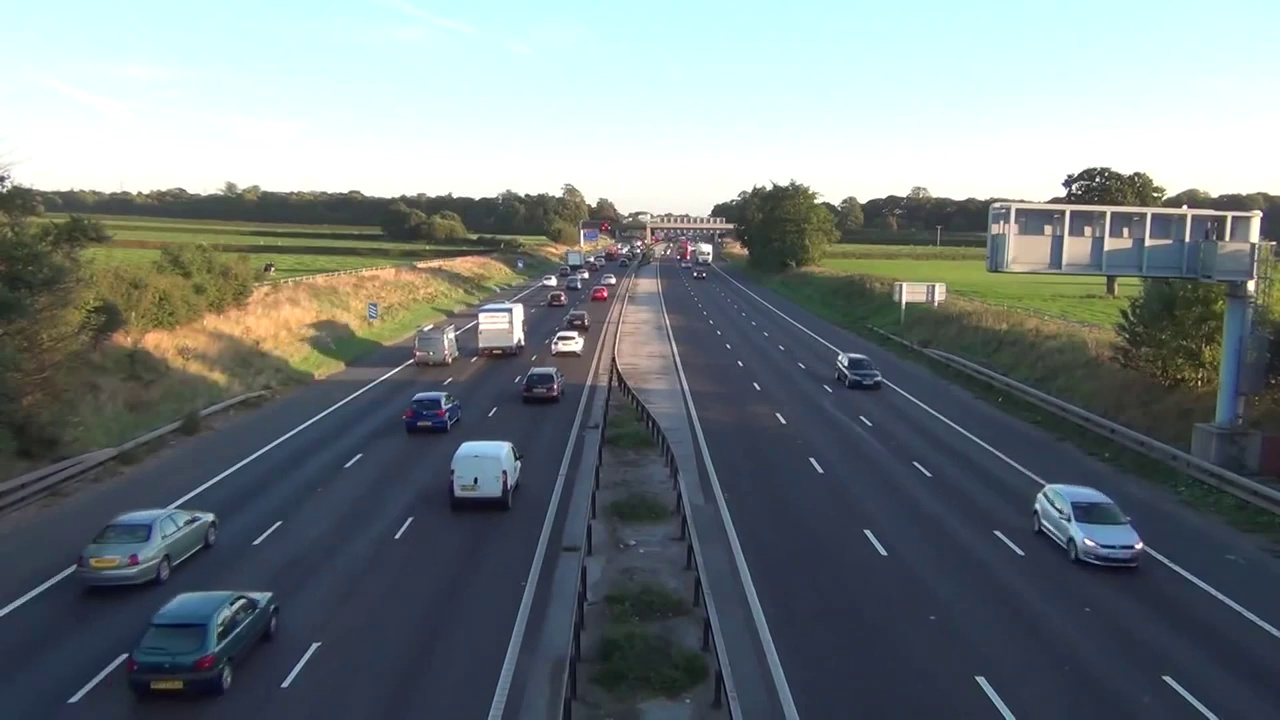bus: (129, 590, 281, 700), (72, 505, 221, 587), (1033, 484, 1145, 573), (449, 440, 523, 511), (404, 390, 462, 434), (414, 321, 464, 367), (833, 353, 885, 390), (522, 367, 566, 404), (550, 330, 586, 358), (566, 310, 592, 331), (547, 291, 568, 307), (590, 285, 608, 300), (566, 276, 582, 290), (691, 266, 707, 280), (601, 273, 617, 286), (542, 275, 558, 287), (575, 268, 590, 280), (559, 266, 571, 276)
car: (478, 303, 526, 357), (567, 250, 586, 270)
